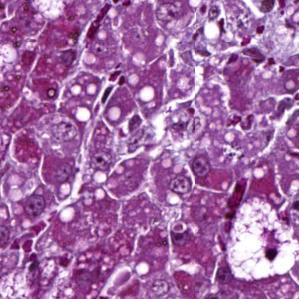ballooning: (225, 195, 298, 283)
